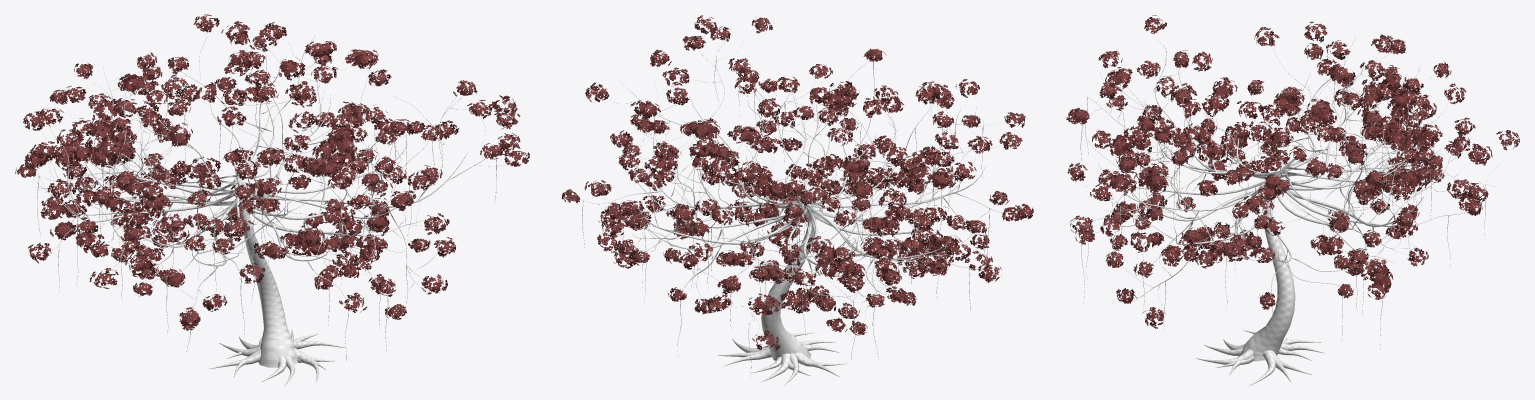
Rendered from tree.gltf.
3 renders of one model, left to right at view 1: azimuth 30°, elevation 25°; view 2: azimuth 150°, elevation 25°; view 3: azimuth 270°, elevation 25°, orthographic. The views are drawn at different scales.
Parts seen in each view (by area): view 1: Tree_LOD0; view 2: Tree_LOD0; view 3: Tree_LOD0.
Boxes of the visible parts, x1=… form: Tree_LOD0: x1=15, y1=14, x2=529, y2=385; Tree_LOD0: x1=561, y1=15, x2=1033, y2=385; Tree_LOD0: x1=1066, y1=15, x2=1519, y2=385.
Size of the model in its own units: 248 by 136 by 218.
2 materials, 2 textured.
